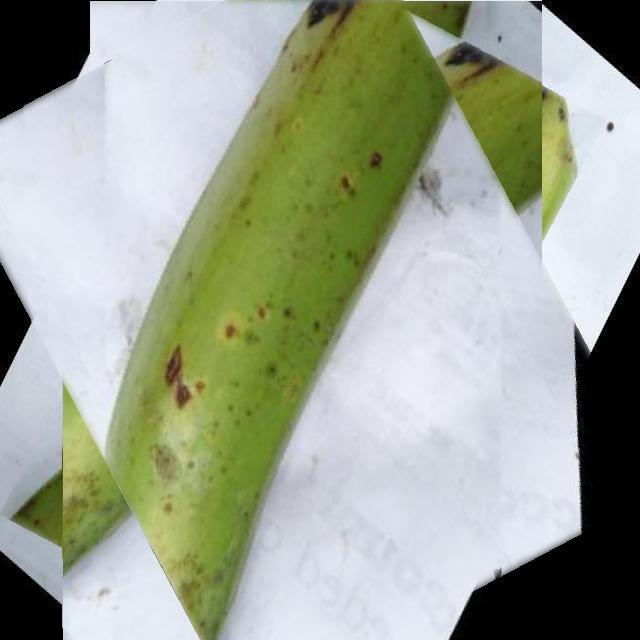Verde: (1, 0, 603, 640)
